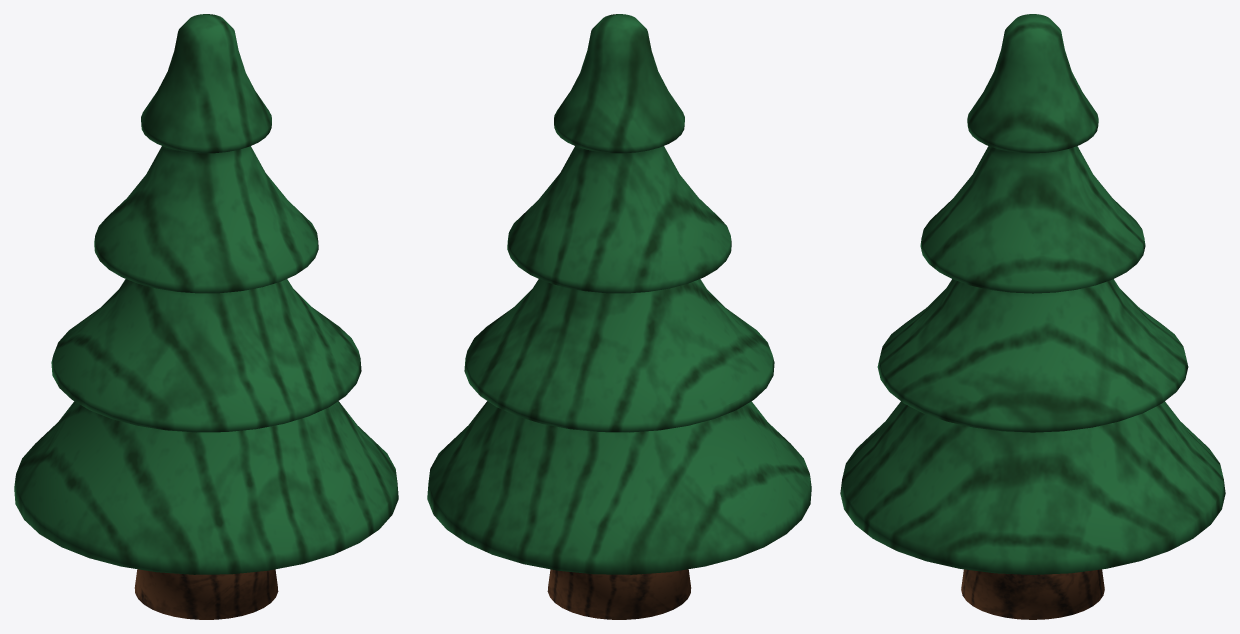
File: WoodTree3.glb
The picture shows the model from 3 angles, left to right: view 1: azimuth 30°, elevation 25°; view 2: azimuth 150°, elevation 25°; view 3: azimuth 270°, elevation 25°; orthographic projection.
Parts seen in each view (by area): view 1: WoodTree3, WoodTree3_bark; view 2: WoodTree3, WoodTree3_bark; view 3: WoodTree3, WoodTree3_bark.
Boxes of the visible parts, x1,y1,x2,y2 form: WoodTree3: [14, 14, 398, 574]; WoodTree3_bark: [134, 569, 278, 619]; WoodTree3: [427, 14, 811, 574]; WoodTree3_bark: [547, 569, 691, 619]; WoodTree3: [840, 14, 1225, 574]; WoodTree3_bark: [961, 569, 1104, 619].
Size of the model in its own units: 3.69 by 6.04 by 3.69.
2 materials, 2 textured.
